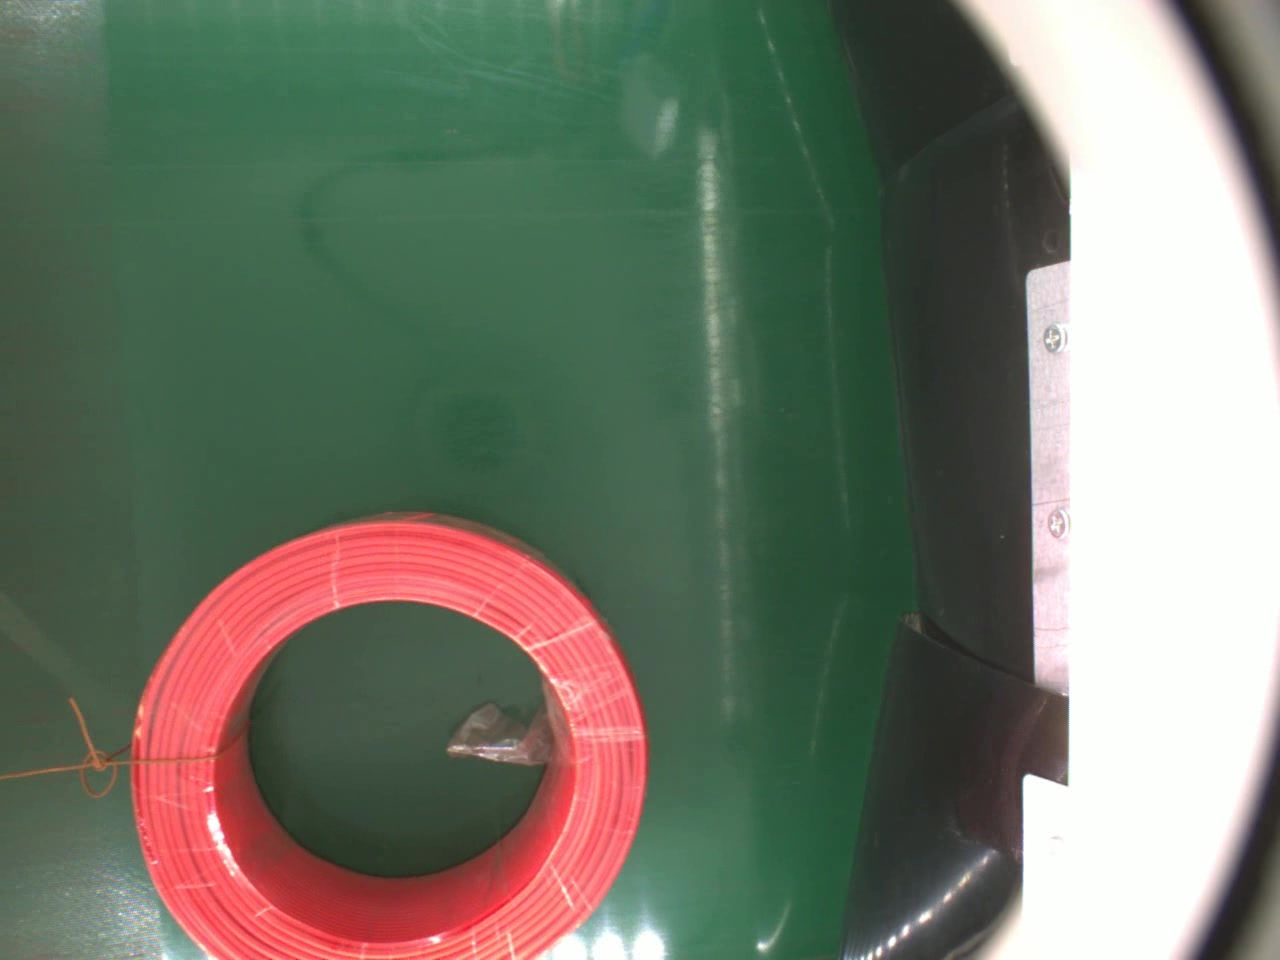red: (130, 510, 654, 960)
